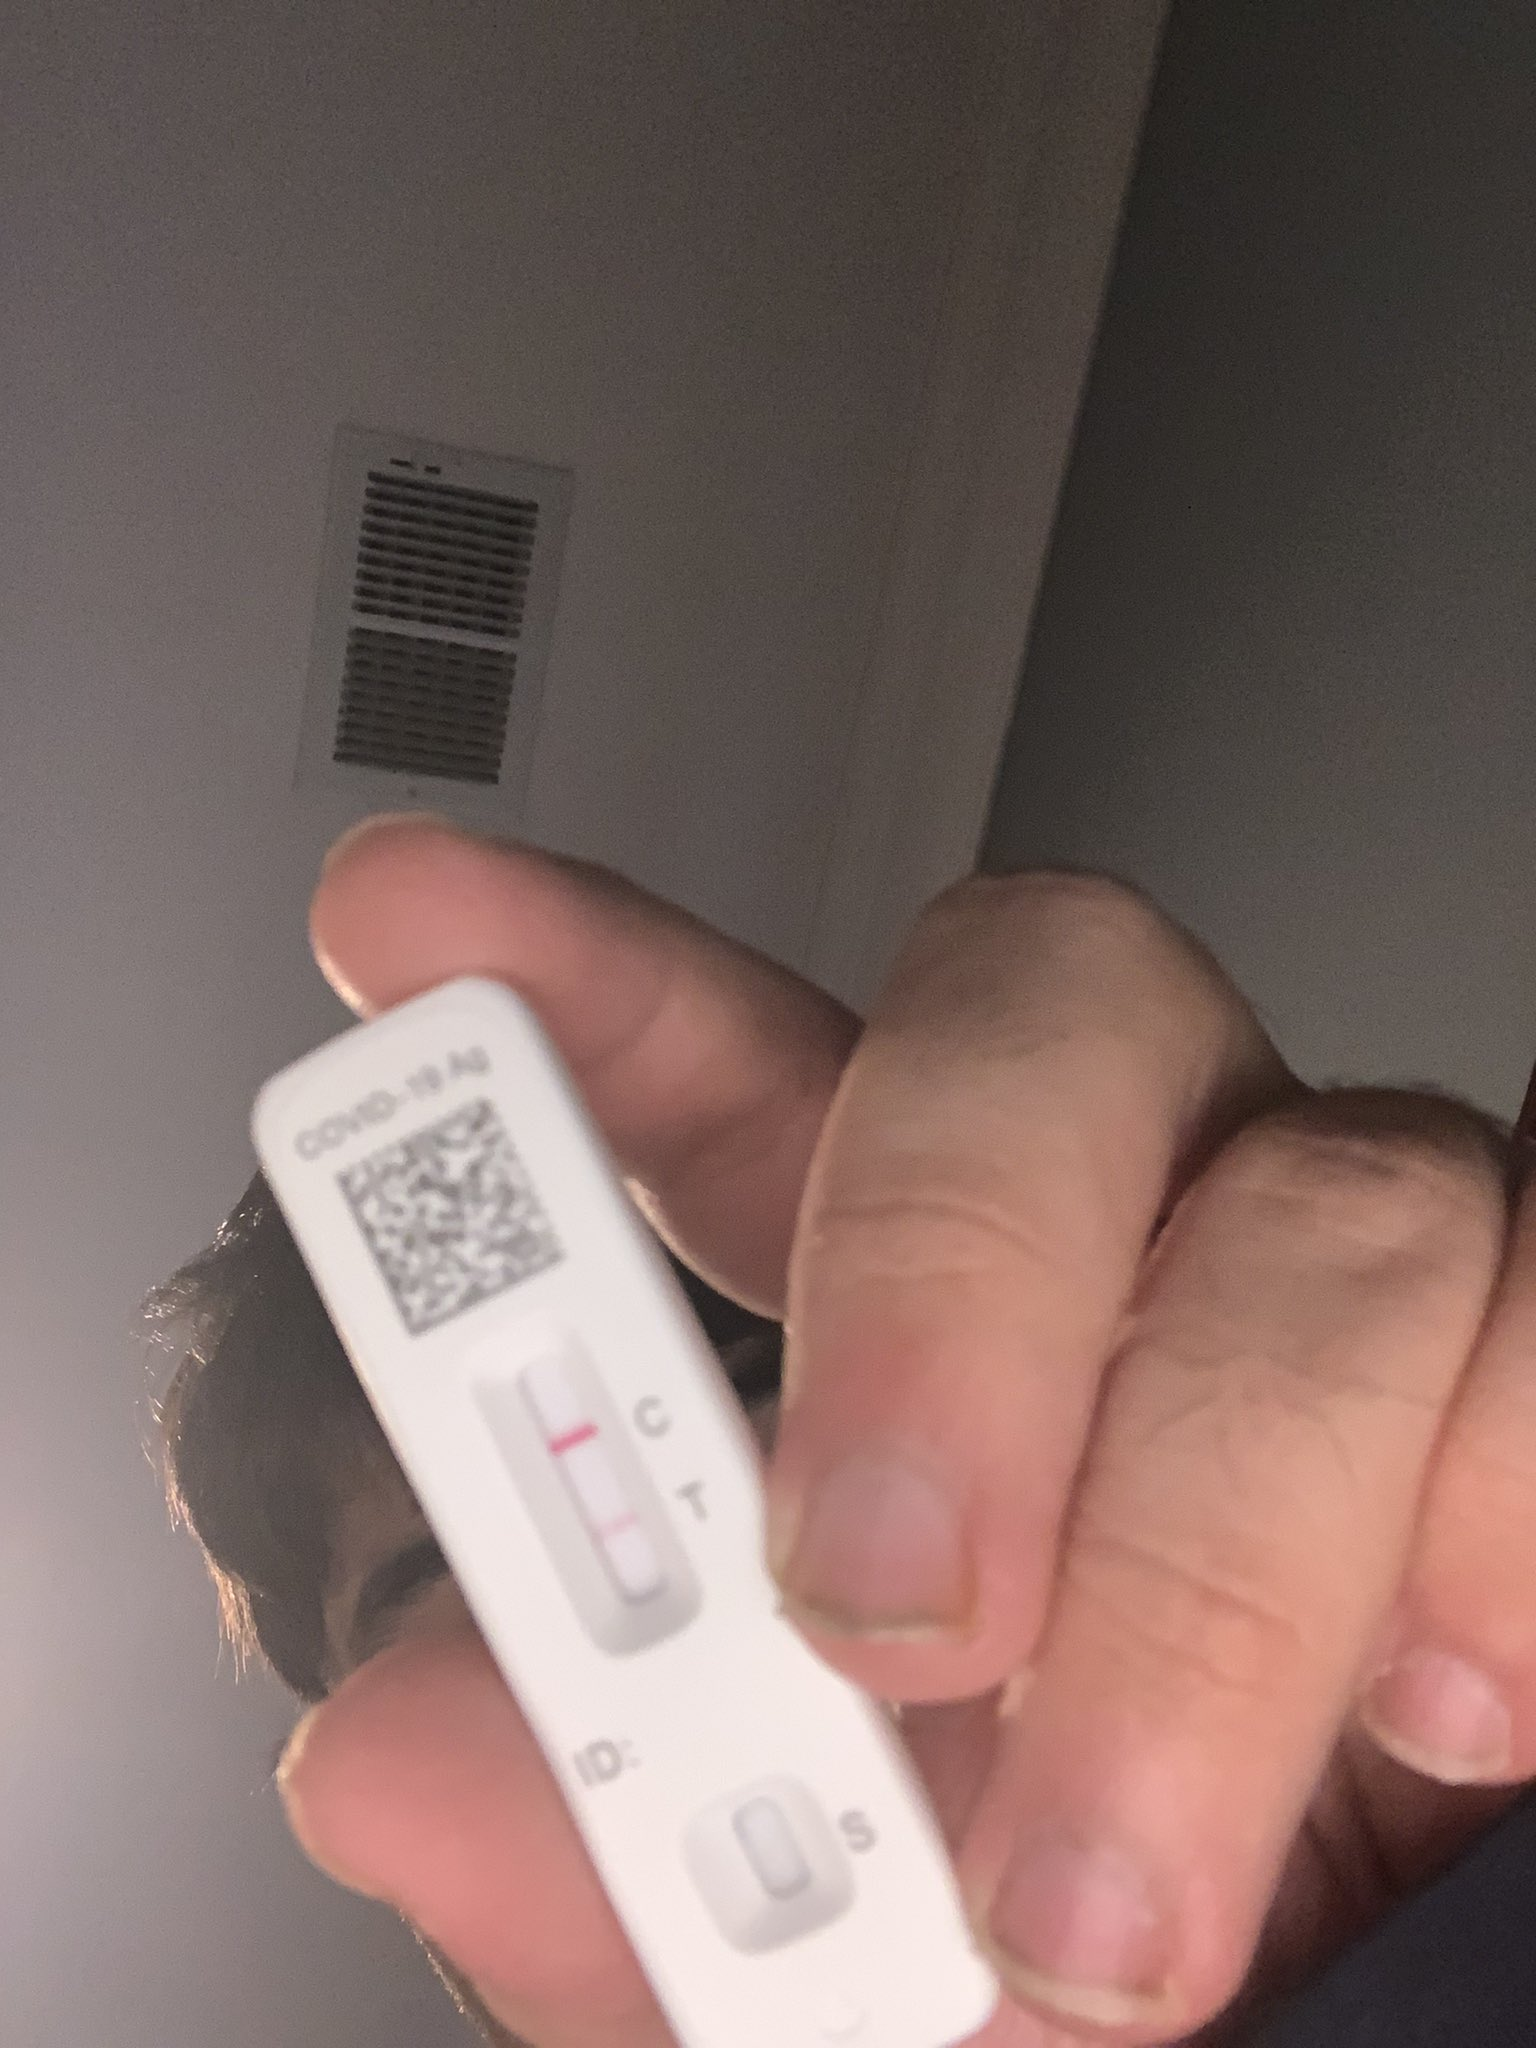positive: (490, 1355, 678, 1650)
